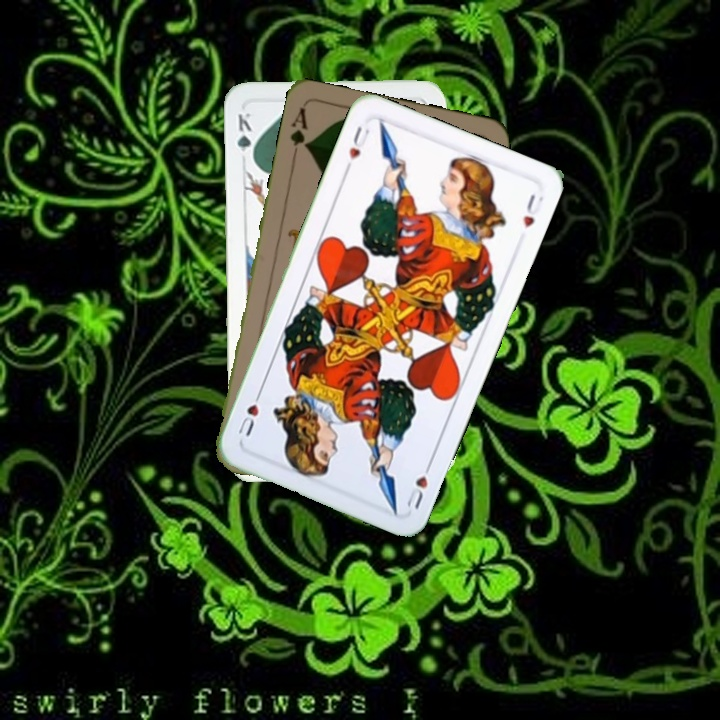GA: (286, 103, 312, 163)
GK: (232, 108, 256, 165)
HU: (402, 456, 435, 513), (341, 121, 373, 174)
